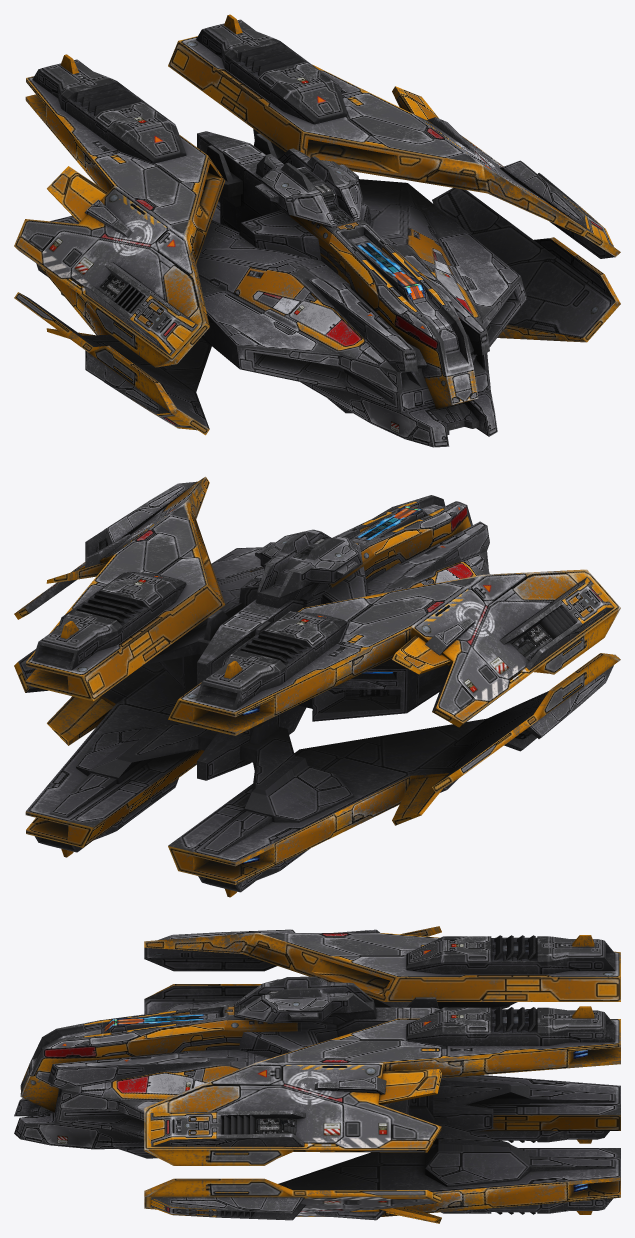
The model's file is AK5Fighter.obj.
3 renders of one model, top to bottom at view 1: azimuth 30°, elevation 25°; view 2: azimuth 150°, elevation 25°; view 3: azimuth 270°, elevation 25°, orthographic. The views are drawn at different scales.
Parts seen in each view (by area): view 1: SciFi_Fighter_AK5:SciFi_Fighter_AK5; view 2: SciFi_Fighter_AK5:SciFi_Fighter_AK5; view 3: SciFi_Fighter_AK5:SciFi_Fighter_AK5.
Part boxes in pixels (x1,y1,x2,y2): SciFi_Fighter_AK5:SciFi_Fighter_AK5: (14,14,620,447); SciFi_Fighter_AK5:SciFi_Fighter_AK5: (14,476,620,897); SciFi_Fighter_AK5:SciFi_Fighter_AK5: (14,926,620,1223).
Size of the model in its own units: 77.81 by 37.69 by 99.93.
Materials: 1 (1 with a texture image).
